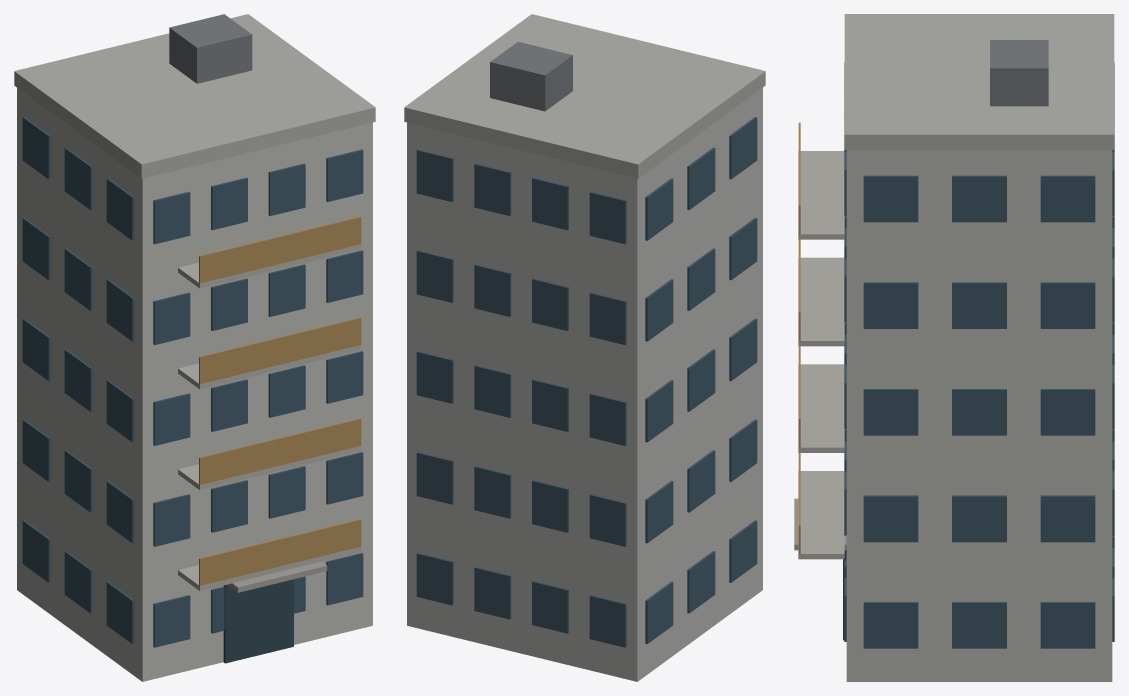
Rendered from procedural_house@6.glb.
3 views of the same model, side by side, from view 1: azimuth 30°, elevation 25°; view 2: azimuth 150°, elevation 25°; view 3: azimuth 270°, elevation 25° (orthographic). The views are drawn at different scales.
Parts seen in each view (by area): view 1: part_0; view 2: part_0; view 3: part_0.
Part boxes in pixels (x1,y1,x2,y2): part_0: [14, 14, 375, 681]; part_0: [404, 14, 765, 681]; part_0: [794, 14, 1114, 681].
Size of the model in its own units: 6.82 by 15.4 by 7.63.
